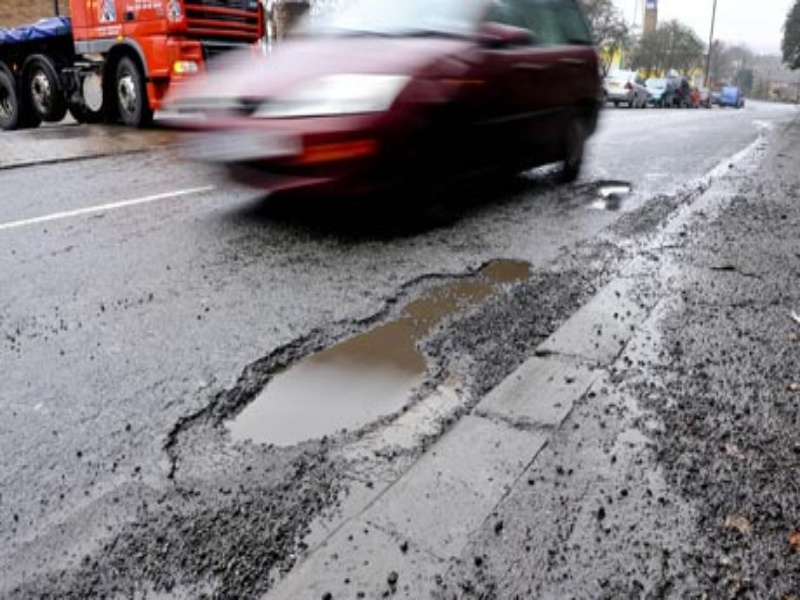pothole: (222, 243, 530, 453), (574, 174, 640, 209)
